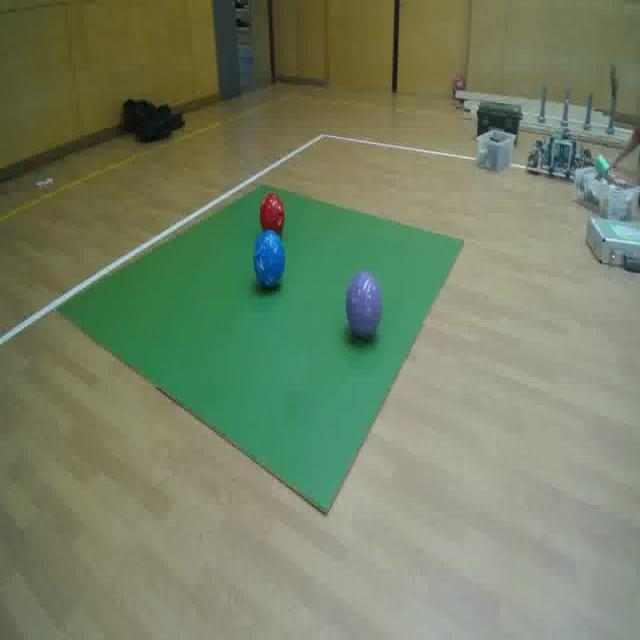blue_ball: (254, 229, 284, 287)
purple_ball: (346, 272, 382, 340)
red_ball: (260, 195, 286, 231)
